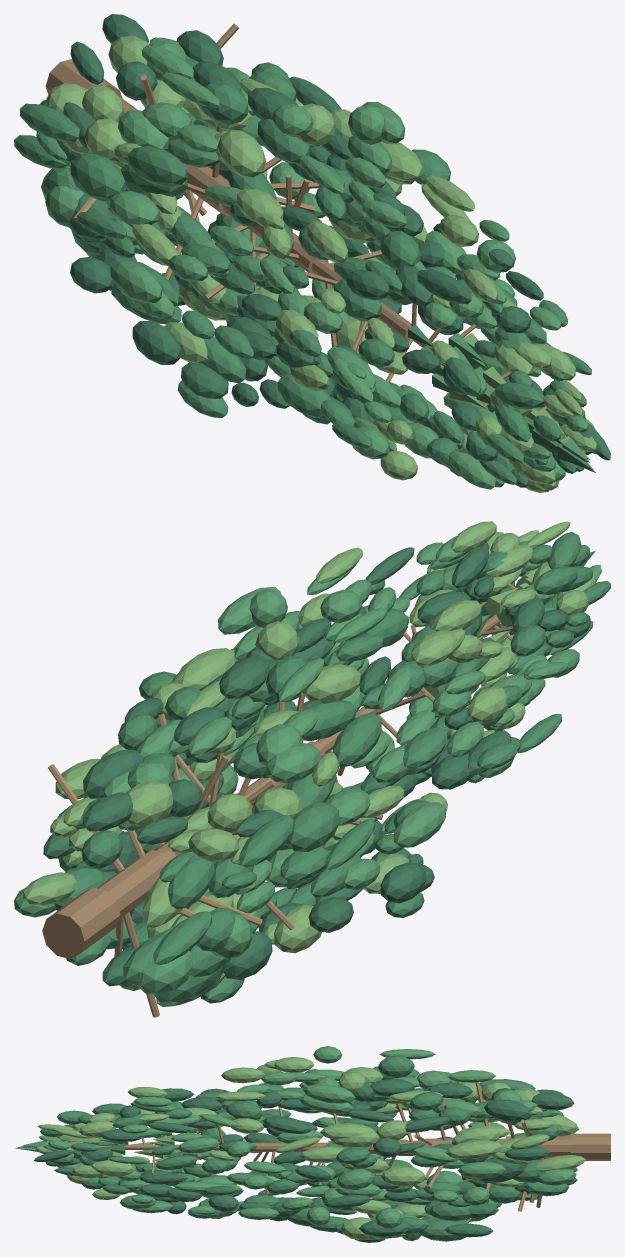
The model's file is tree_evergreen.glb.
The picture shows the model from 3 angles, top to bottom: view 1: azimuth 30°, elevation 25°; view 2: azimuth 150°, elevation 25°; view 3: azimuth 270°, elevation 25°; orthographic projection. The views are drawn at different scales.
Visible parts, largest first — view 1: Foliage cluster 64, Foliage cluster 235, Foliage cluster 427, Foliage cluster 284, Foliage cluster 197, Foliage cluster 407, Foliage cluster 303, Foliage cluster 182, Foliage cluster 196, Foliage cluster 282, Foliage cluster 326, Foliage cluster 62 (+90 smaller); view 2: Trunk section 0, Trunk section 1, Foliage cluster 64, Foliage cluster 235, Foliage cluster 20, Foliage cluster 308, Foliage cluster 284, Foliage cluster 8, Foliage cluster 407, Foliage cluster 427, Foliage cluster 282, Foliage cluster 105 (+80 smaller); view 3: Trunk section 0, Foliage cluster 69, Foliage cluster 173, Foliage cluster 234, Foliage cluster 68, Foliage cluster 352, Foliage cluster 303, Foliage cluster 358, Foliage cluster 105, Foliage cluster 61, Foliage cluster 418, Foliage cluster 115 (+100 smaller).
Boxes of the visible parts, x1,y1,x2,y2 form: Foliage cluster 64: (70, 153, 125, 201); Foliage cluster 235: (127, 146, 187, 186); Foliage cluster 427: (217, 129, 265, 177); Foliage cluster 284: (110, 260, 161, 303); Foliage cluster 197: (132, 320, 180, 364); Foliage cluster 407: (20, 103, 79, 141); Foliage cluster 303: (200, 81, 247, 124); Foliage cluster 182: (257, 119, 310, 163); Foliage cluster 196: (109, 191, 159, 224); Foliage cluster 282: (118, 110, 169, 150); Foliage cluster 326: (277, 374, 332, 418); Foliage cluster 62: (181, 362, 228, 398); Trunk section 0: (42, 887, 120, 958); Trunk section 1: (97, 850, 169, 918); Foliage cluster 64: (285, 802, 339, 851); Foliage cluster 235: (332, 712, 381, 767); Foliage cluster 20: (167, 855, 214, 909); Foliage cluster 308: (153, 911, 212, 964); Foliage cluster 284: (394, 802, 445, 847); Foliage cluster 8: (126, 780, 172, 827); Foliage cluster 407: (239, 814, 294, 867); Foliage cluster 427: (303, 664, 360, 703); Foliage cluster 282: (266, 743, 320, 783); Foliage cluster 105: (175, 648, 234, 690); Trunk section 0: (570, 1133, 610, 1160); Foliage cluster 69: (484, 1099, 532, 1121); Foliage cluster 173: (445, 1140, 503, 1159); Foliage cluster 234: (303, 1084, 355, 1103); Foliage cluster 68: (381, 1166, 425, 1186); Foliage cluster 352: (419, 1219, 467, 1241); Foliage cluster 303: (378, 1055, 414, 1078); Foliage cluster 358: (457, 1161, 505, 1178); Foliage cluster 105: (320, 1123, 375, 1139); Foliage cluster 61: (263, 1116, 312, 1133); Foliage cluster 418: (336, 1169, 374, 1189); Foliage cluster 115: (537, 1155, 585, 1171).
Size of the model in its own units: 2.47 by 2.45 by 7.39.
